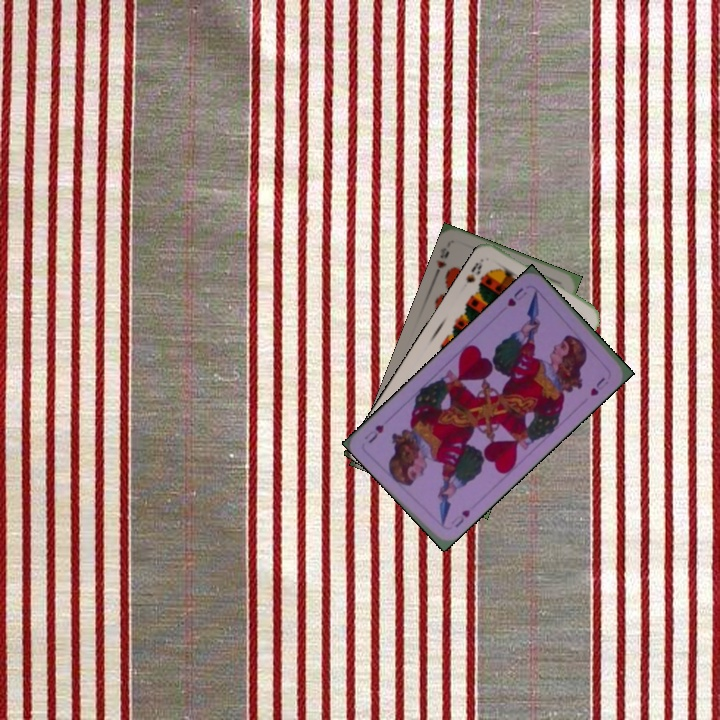H9: (430, 243, 452, 279)
HU: (503, 283, 529, 309), (446, 505, 473, 530)
S8: (462, 255, 486, 286)
